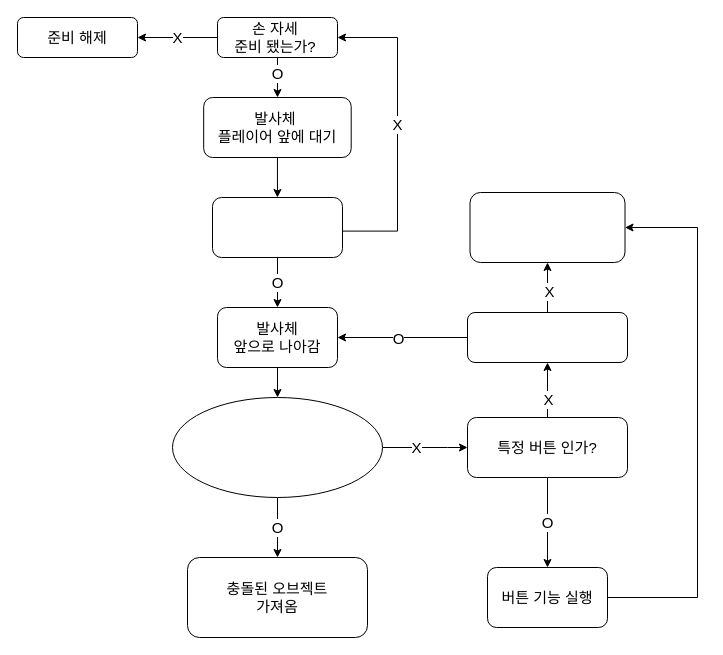
This 723x655 diagram has some shape labels left out. The shapes that lost their labels are listed below. From the top down, each one's centre as x and y in pixels, then its label:
the point at 277,227: 다른 손 자세도 준비 됐는가?
the point at 547,227: 플레이어 앞으로 발사체만 가져옴
the point at 547,337: isStatic?
the point at 277,447: 충돌! 가져올 수 있는가?
